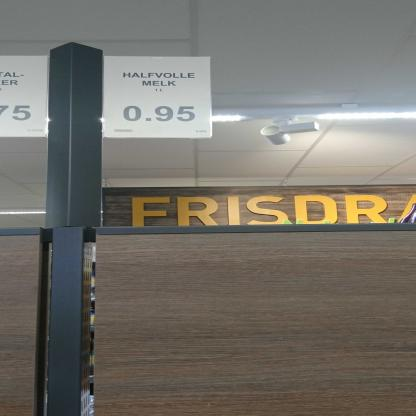prtg: (101, 55, 215, 141), (1, 55, 53, 139)
